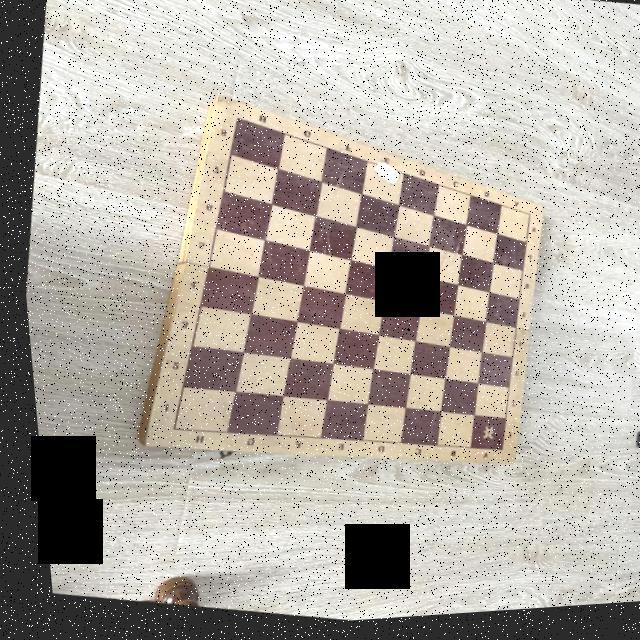chess-table-corners: (159, 425, 174, 436), (229, 115, 242, 126), (487, 450, 498, 460), (520, 217, 531, 226)
